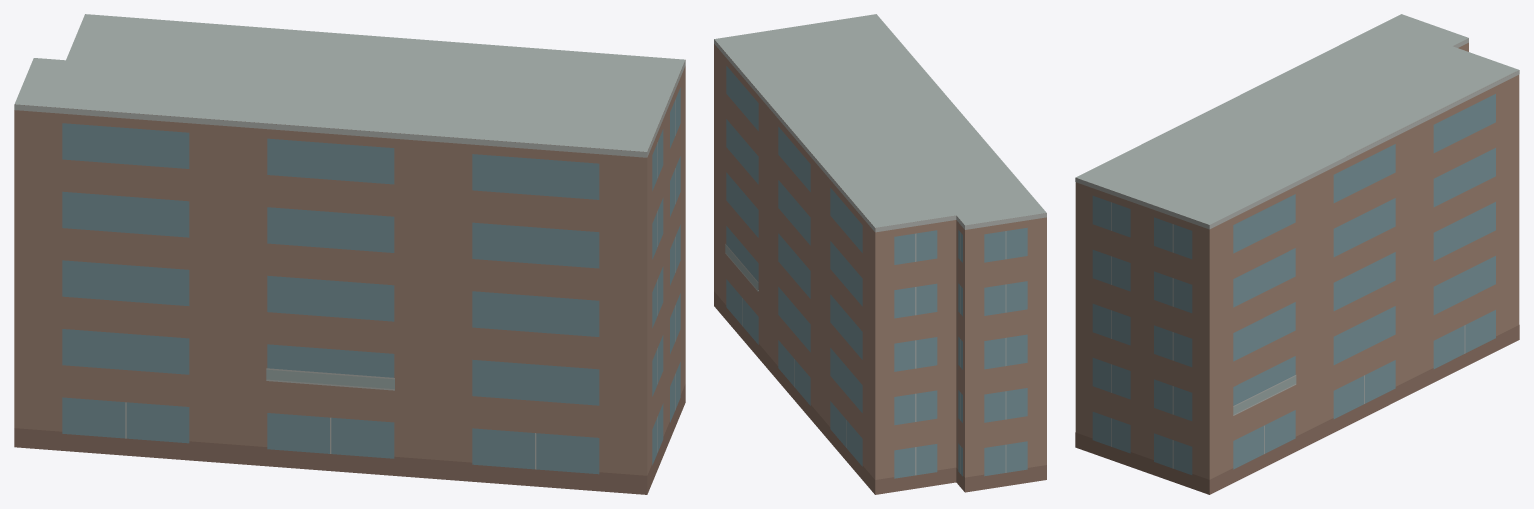
Rendered from survey-upis-32988920.glb.
The picture shows the model from 3 angles, left to right: view 1: azimuth 30°, elevation 25°; view 2: azimuth 150°, elevation 25°; view 3: azimuth 270°, elevation 25°; orthographic projection. The views are drawn at different scales.
Parts seen in each view (by area): view 1: survey-upis-32988920.tmp; view 2: survey-upis-32988920.tmp; view 3: survey-upis-32988920.tmp.
Part boxes in pixels (box(x1,y1,x2,y2)): survey-upis-32988920.tmp: box(14, 14, 685, 494); survey-upis-32988920.tmp: box(714, 14, 1046, 494); survey-upis-32988920.tmp: box(1075, 14, 1519, 494).
Size of the model in its own units: 24.31 by 14.5 by 21.62.
